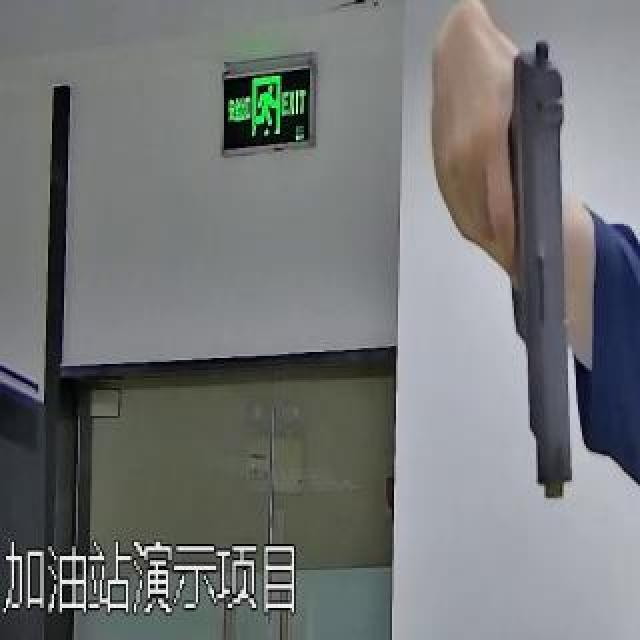Guns: (484, 0, 602, 514)
